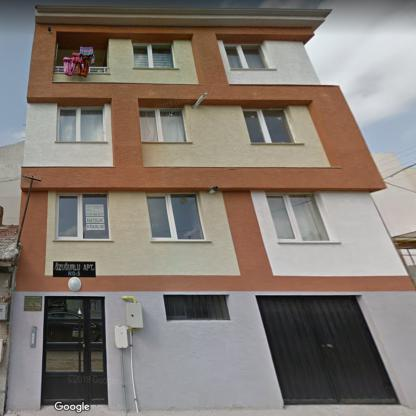door: (256, 296, 397, 404), (41, 297, 106, 405)
window: (266, 193, 330, 241), (146, 194, 206, 241), (55, 192, 110, 241), (243, 109, 296, 143), (57, 106, 105, 142), (164, 295, 229, 320), (140, 108, 187, 141), (225, 44, 269, 68), (134, 44, 175, 68)
